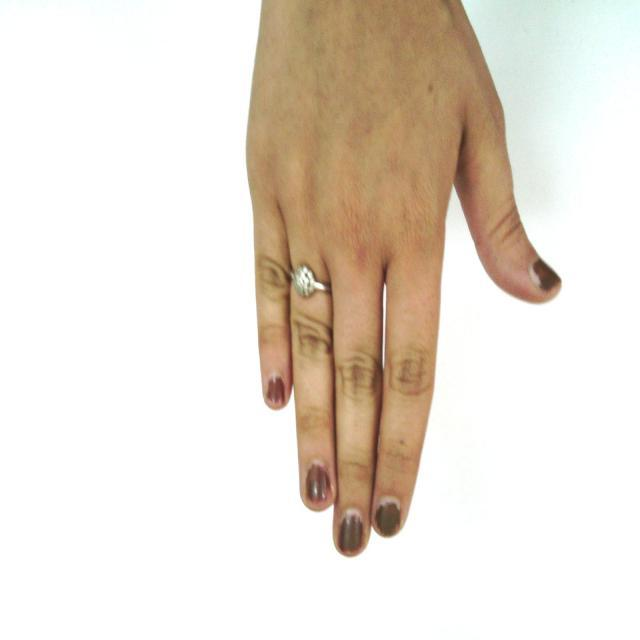Fingernail: (339, 511, 363, 552), (375, 499, 400, 536), (532, 260, 561, 291), (307, 463, 329, 502), (267, 375, 284, 406)
